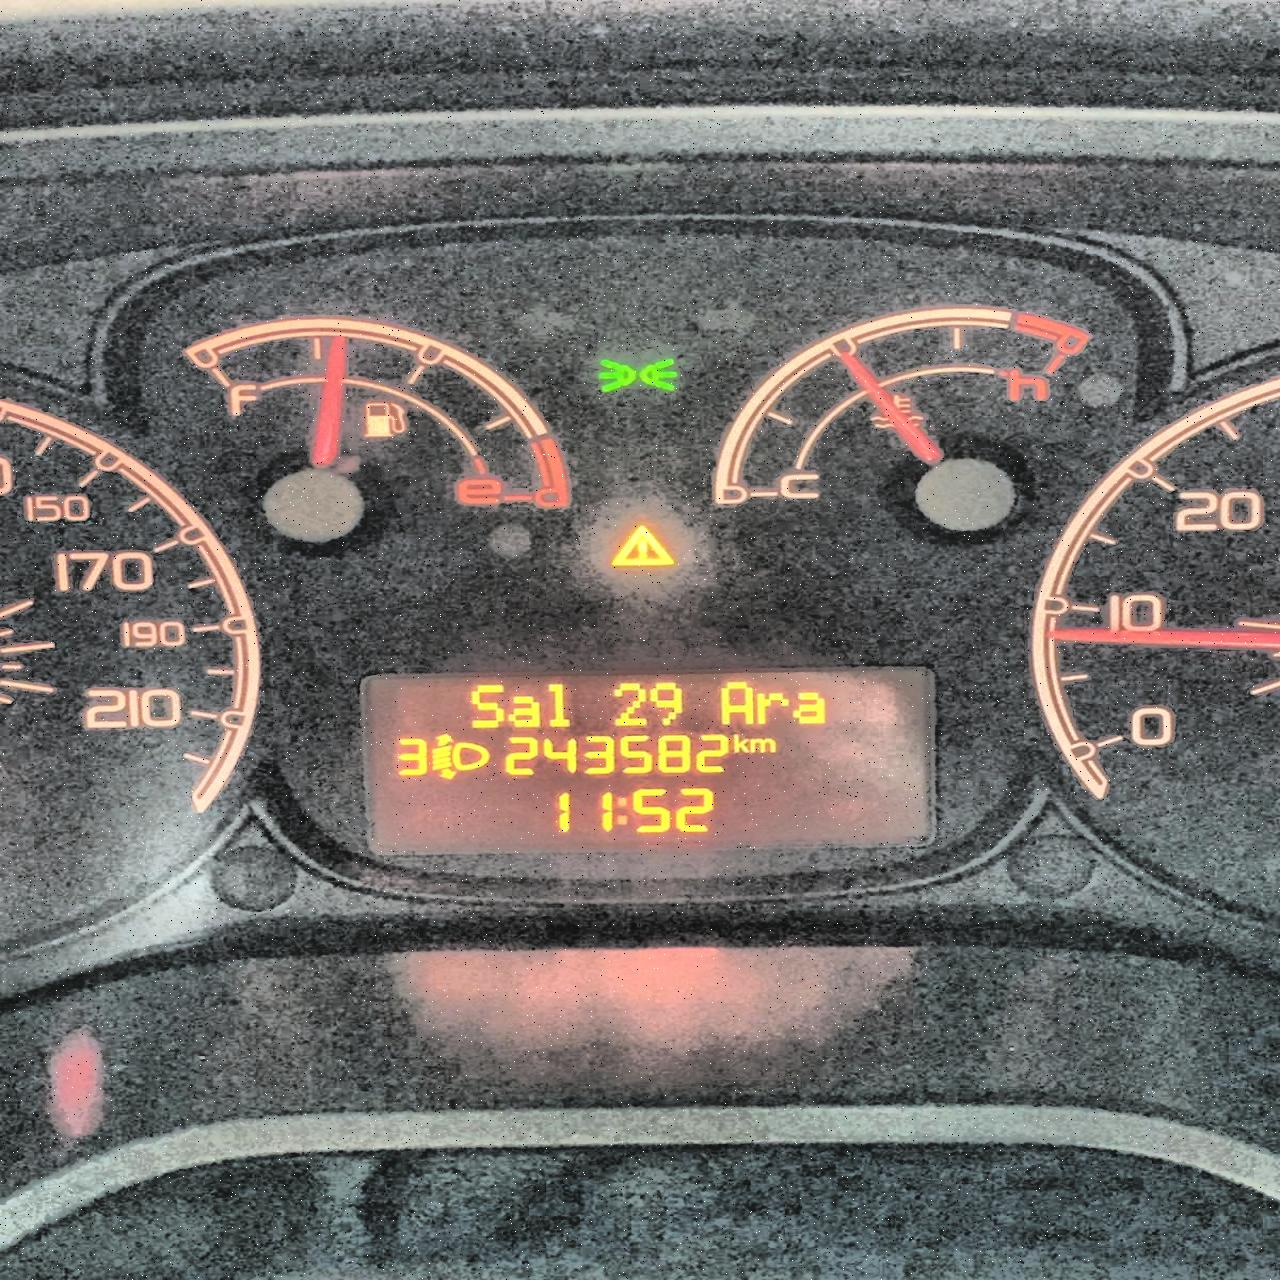1: (550, 787, 577, 836), (593, 789, 612, 833)
2: (673, 784, 715, 835), (611, 679, 648, 729), (695, 731, 729, 775), (504, 734, 538, 776)
3: (394, 735, 429, 777), (581, 733, 615, 775)
4: (540, 734, 578, 775)
5: (632, 785, 673, 833), (618, 731, 654, 775)
8: (655, 731, 693, 775)
9: (648, 680, 686, 726)
X: (467, 682, 506, 728), (717, 680, 754, 727), (543, 679, 573, 729), (505, 690, 544, 728), (755, 689, 787, 726), (795, 688, 825, 726), (614, 794, 631, 829), (745, 735, 776, 753), (729, 733, 749, 754)
odometer: (359, 667, 940, 846)
